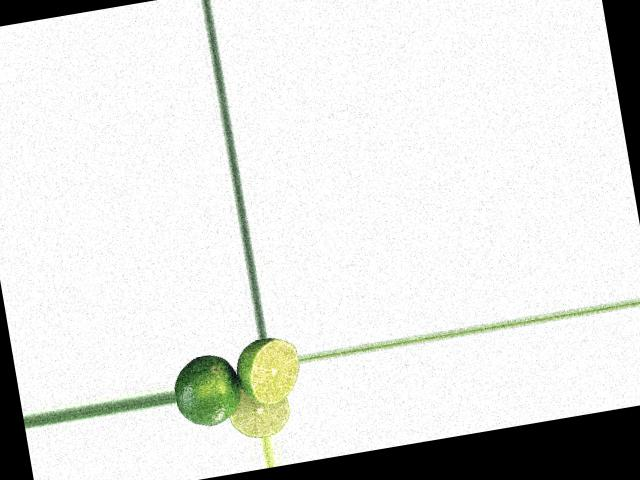lemon: (170, 352, 249, 429)
